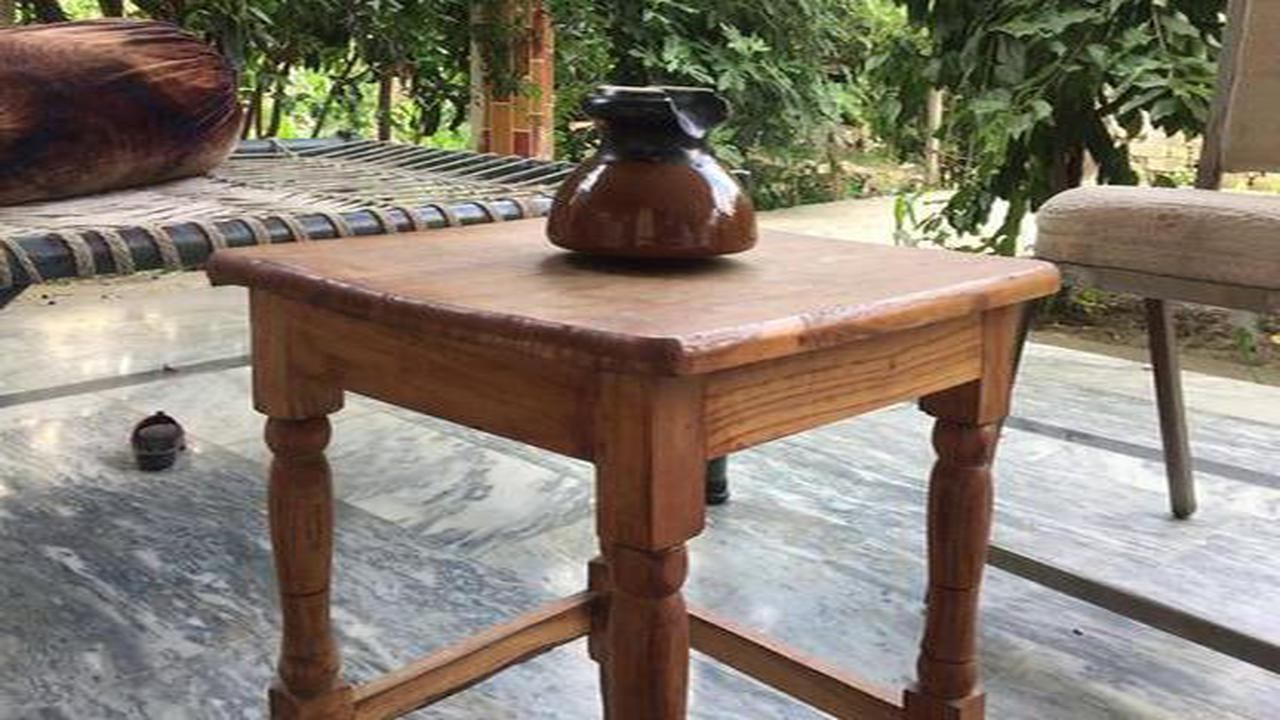insulator_pin: (530, 68, 779, 283)
